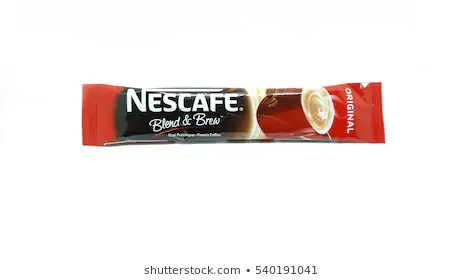nescafe-caffe: (74, 77, 386, 148)
